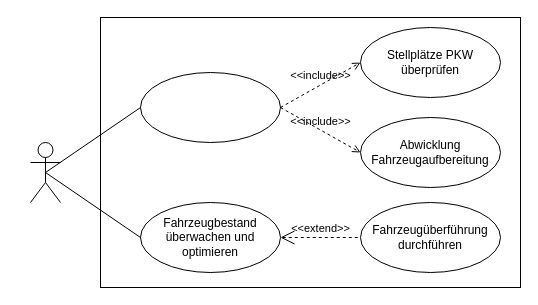
The diagram is 538 pixels wide and 305 high, and some of its shapes have lost their labels. Here are the shapes that lost their labels. From the top down, the centre of each, then its label:
At (210,107): "Mietstation Stammdaten pflegen".
At (45,172): "Mitarbeiter".
